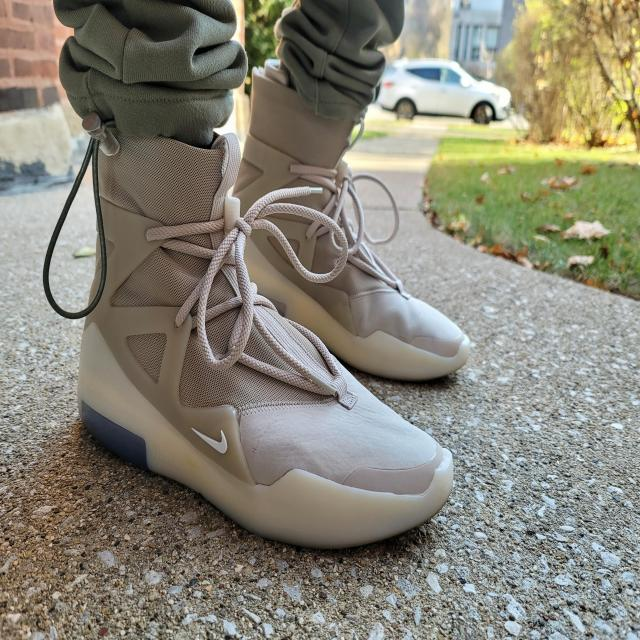shoe: (40, 112, 454, 557), (227, 54, 483, 403)
